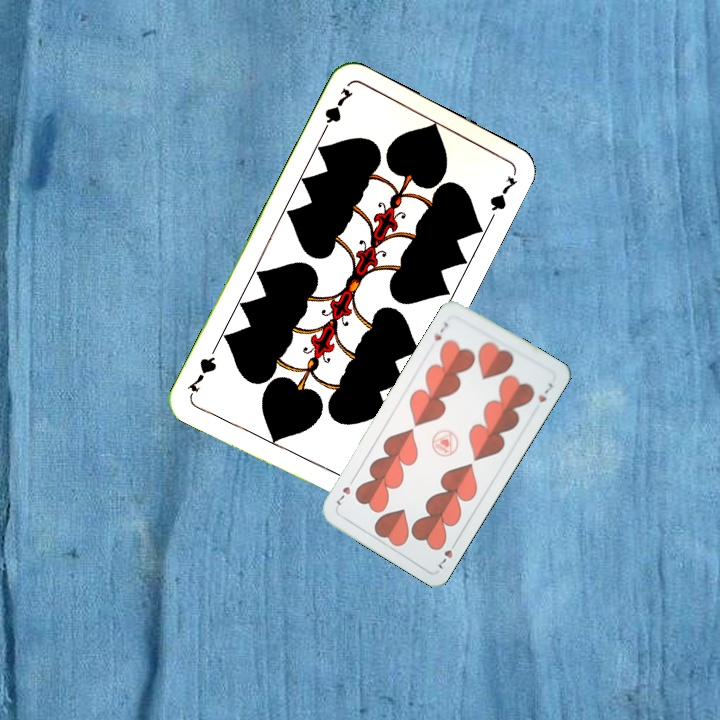G7: (317, 83, 356, 138)
H7: (434, 536, 460, 572), (429, 318, 451, 343)
